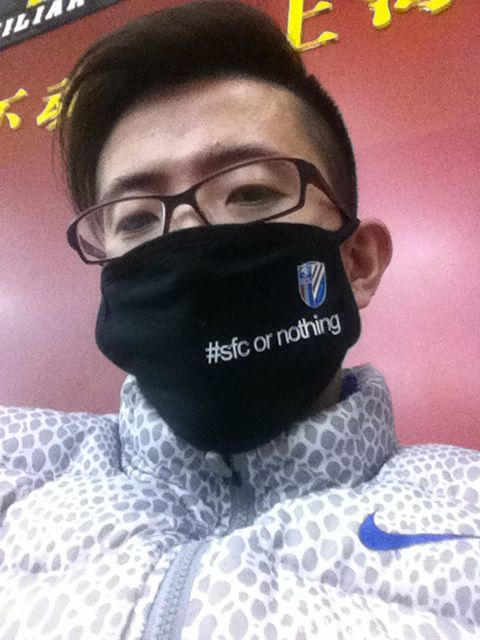face_mask: (98, 72, 331, 404)
